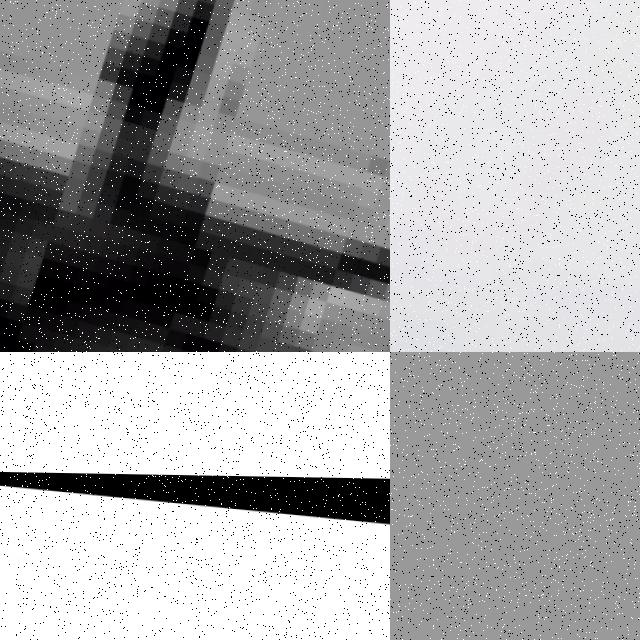drone: (0, 0, 390, 352), (390, 0, 640, 352), (0, 468, 390, 640)
